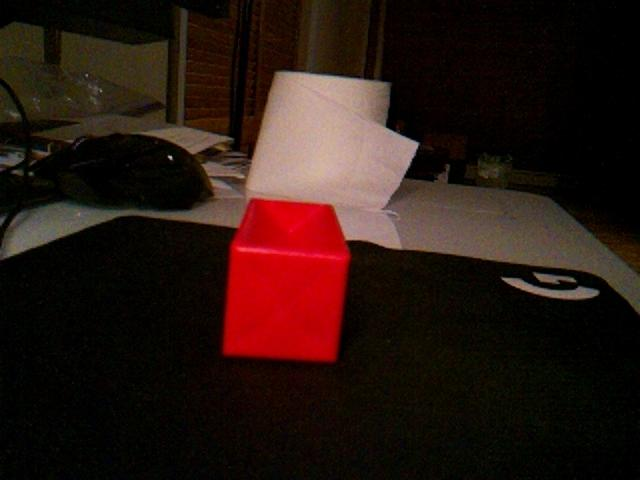red: (221, 197, 352, 365)
